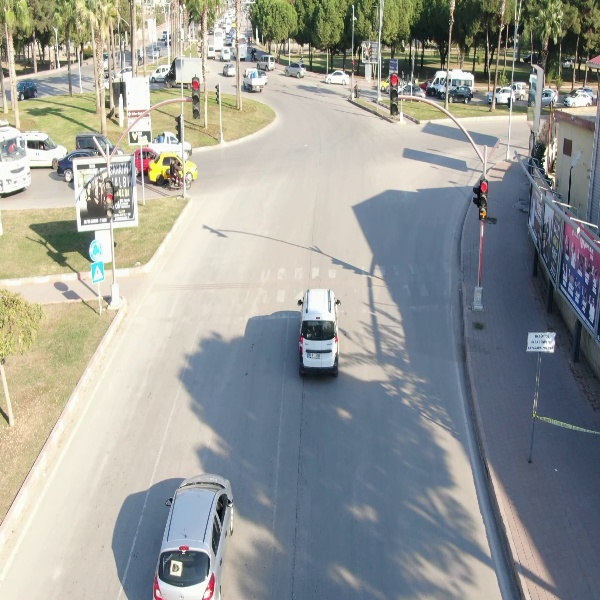car: (296, 287, 342, 377), (486, 85, 519, 106), (562, 87, 593, 108), (322, 66, 352, 87), (17, 77, 40, 103), (449, 85, 474, 107), (282, 63, 308, 79), (255, 53, 276, 72)
